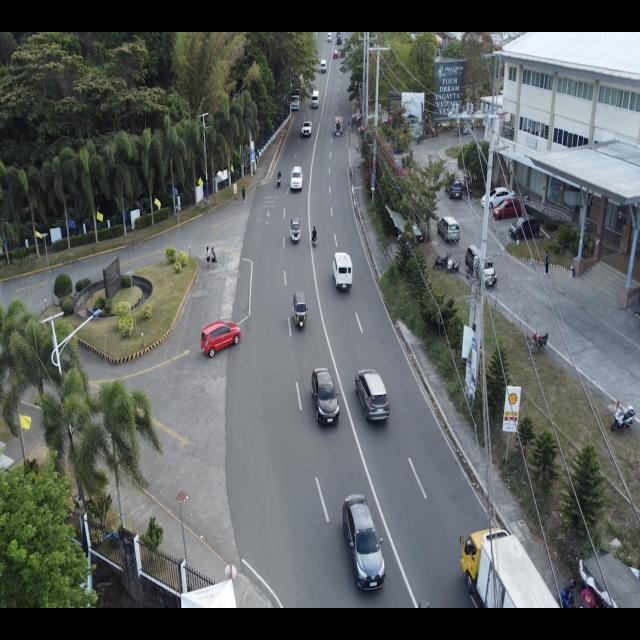car: (342, 492, 387, 595), (354, 366, 392, 423), (309, 366, 342, 428), (200, 320, 243, 358), (464, 243, 498, 290), (332, 250, 353, 293), (508, 216, 542, 240), (481, 187, 516, 209), (436, 215, 461, 244), (491, 198, 522, 220), (289, 165, 304, 191), (301, 119, 313, 138), (334, 115, 344, 137), (310, 90, 320, 109), (320, 59, 327, 73), (333, 49, 339, 59), (327, 32, 332, 43)
motorcycle: (611, 399, 636, 432), (527, 329, 549, 353), (433, 251, 451, 269), (447, 255, 461, 275), (311, 224, 319, 247), (276, 170, 282, 188)
person: (544, 250, 550, 276), (211, 246, 217, 270), (205, 246, 211, 267), (242, 186, 246, 203)
truck: (458, 525, 560, 609), (289, 87, 302, 111)
